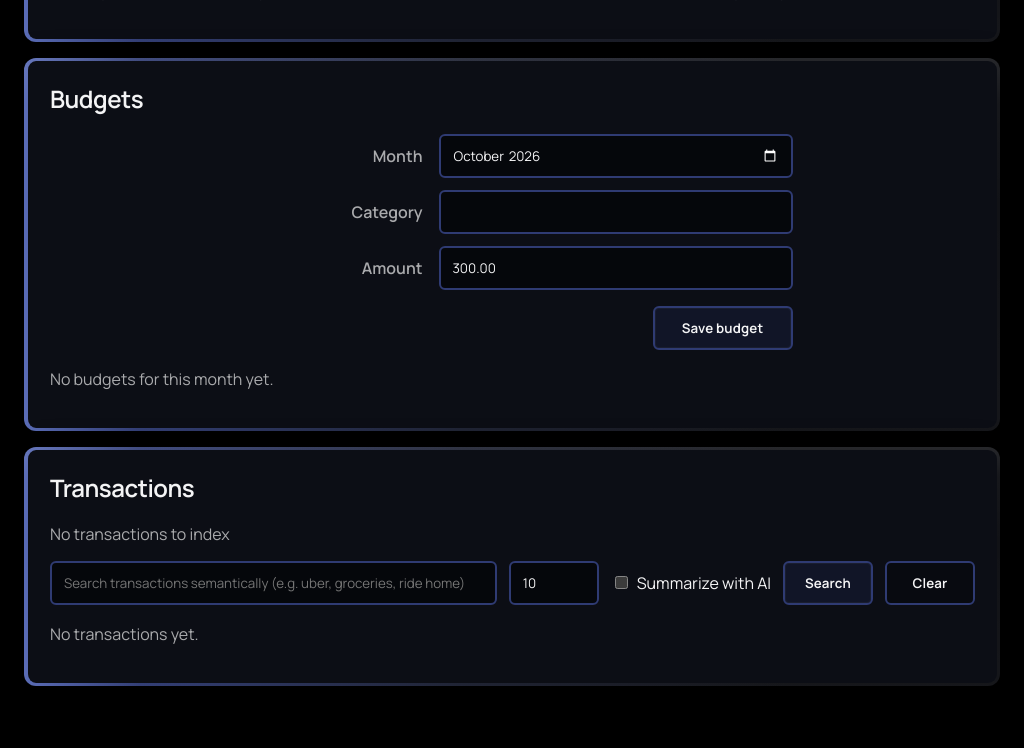
Test case: dashboard request lifecycle › ignores a previous account's pending search after another login
The width and height of the screenshot is (1024, 748).
(page scrolled)
Type "private query" into the field named "Semantic search query" at (273, 583), box [50,561,497,605]
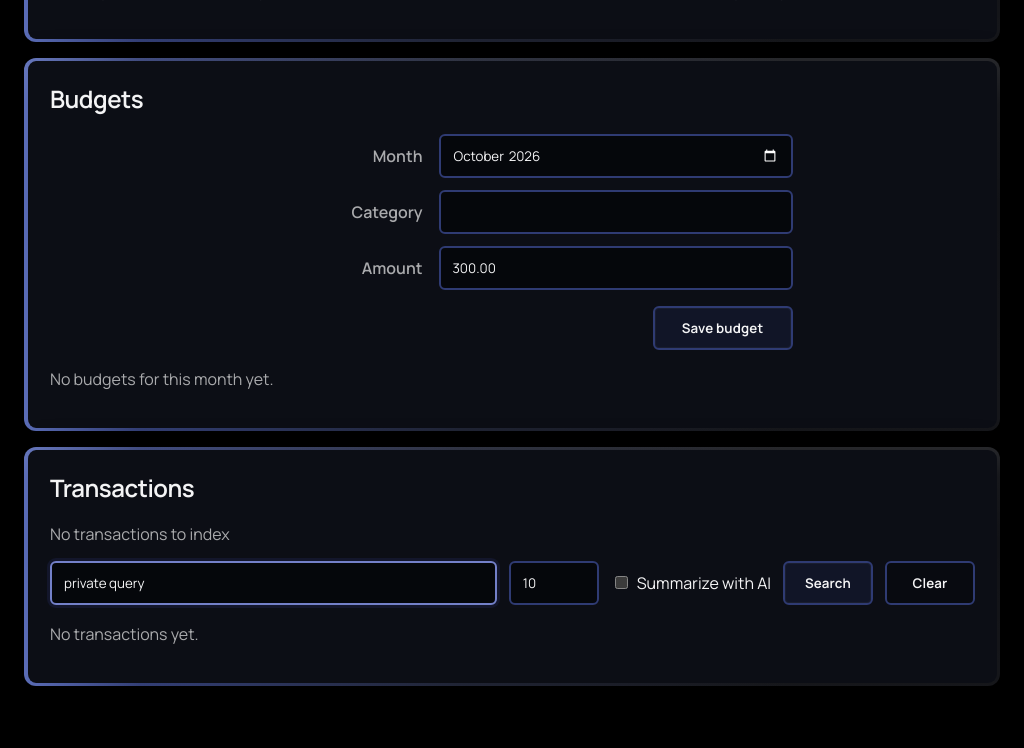
Click the button "Search" at (828, 583), box [783,561,873,605]
(page scrolled)
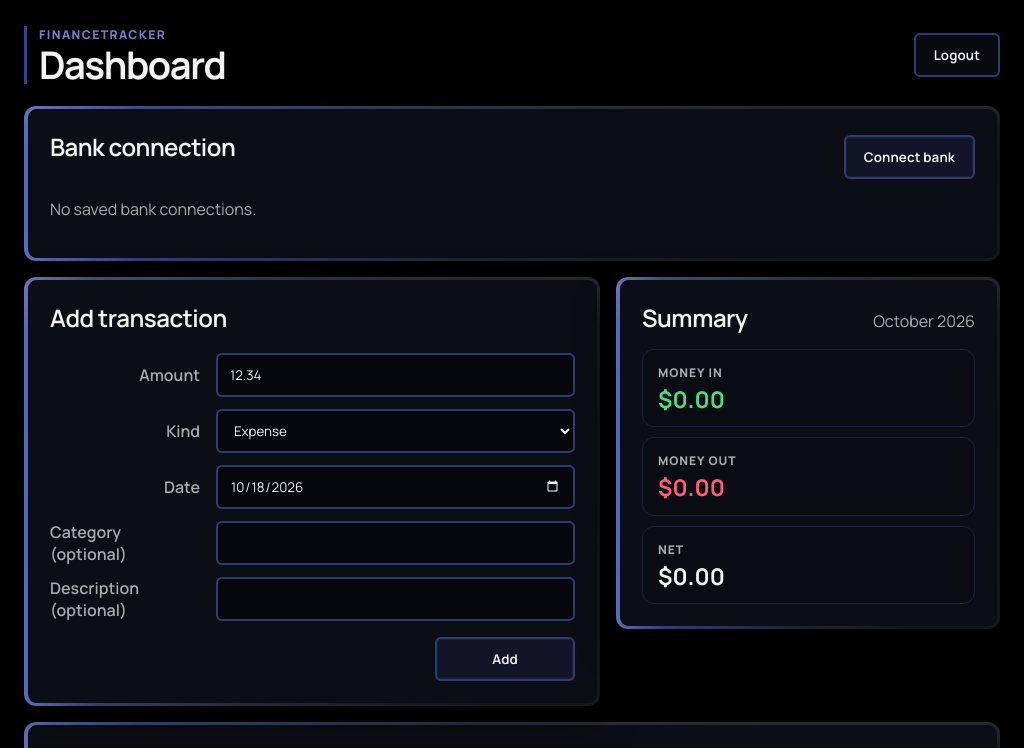
Click the button "Logout" at (957, 55), box [914,33,1000,77]
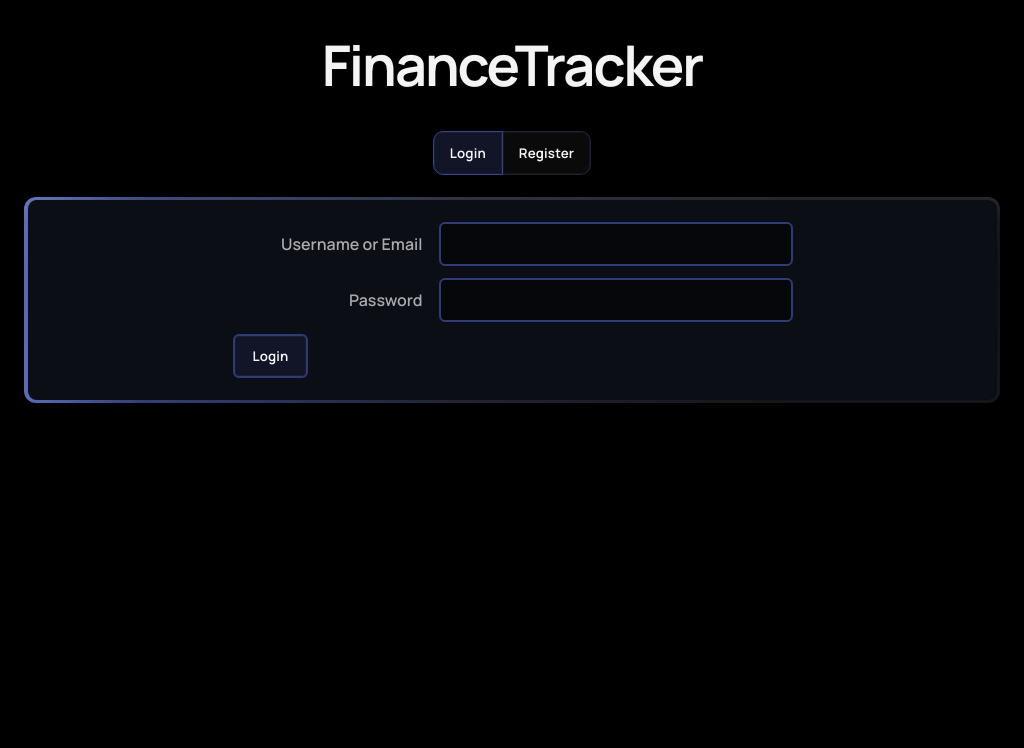
Type "next-user" into the field labelled "Username or Email" at (616, 244), box [438,222,792,266]
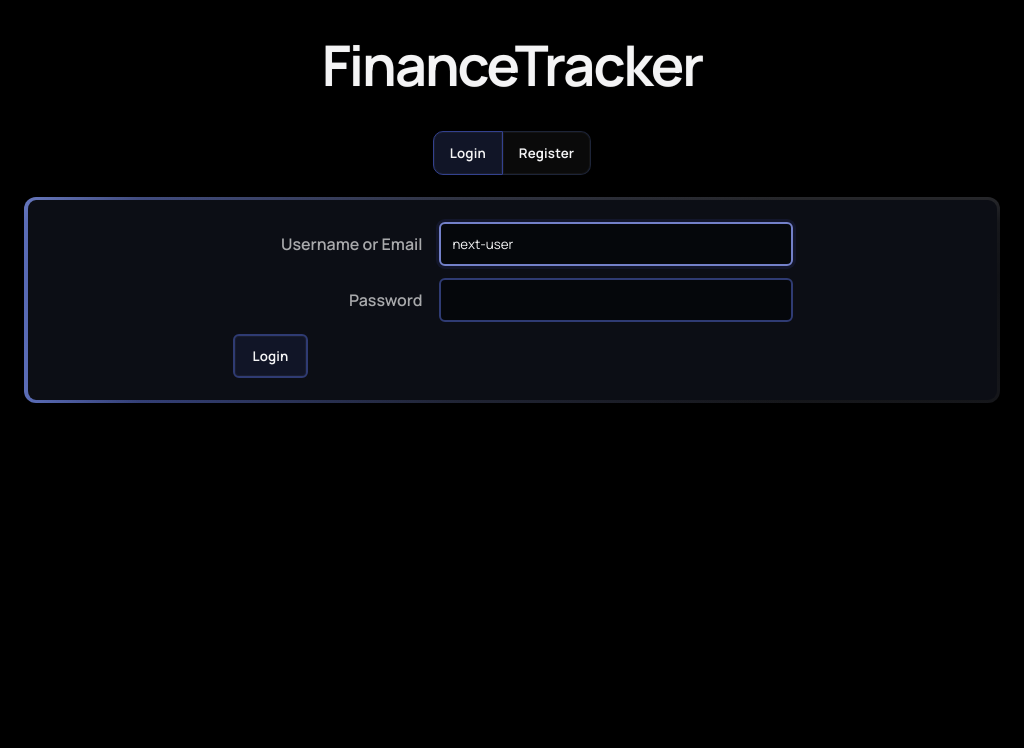
Type "password" into the password field labelled "Password" at (616, 300), box [438,278,792,322]
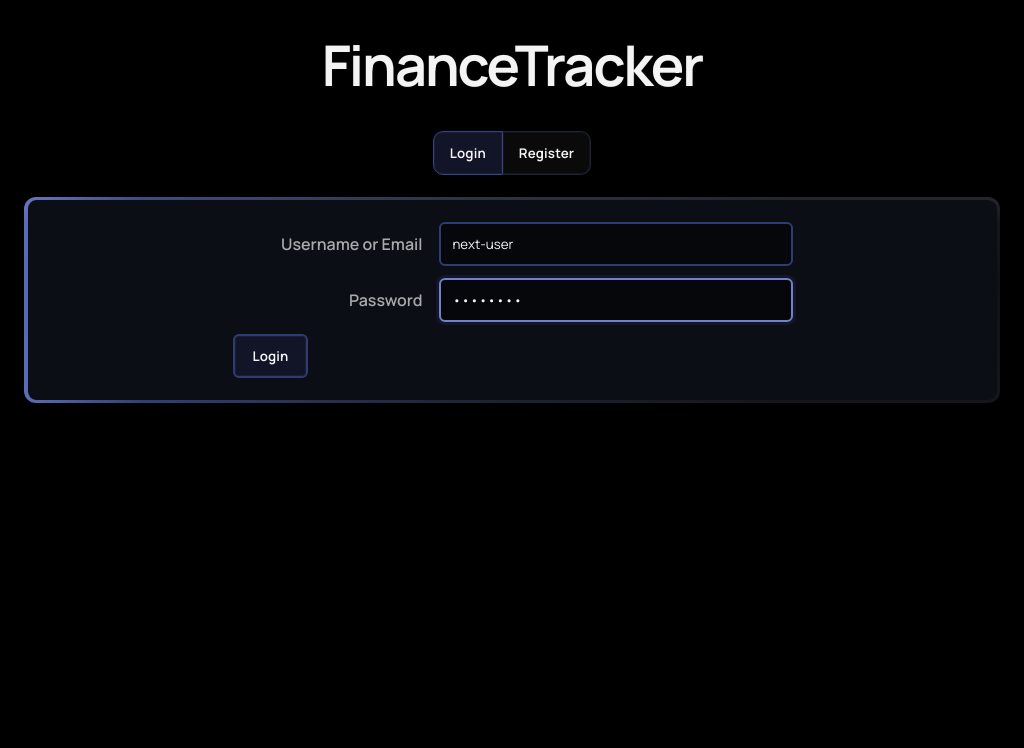
Click the button "Login" below "Password" at (270, 356), box [232,334,308,378]
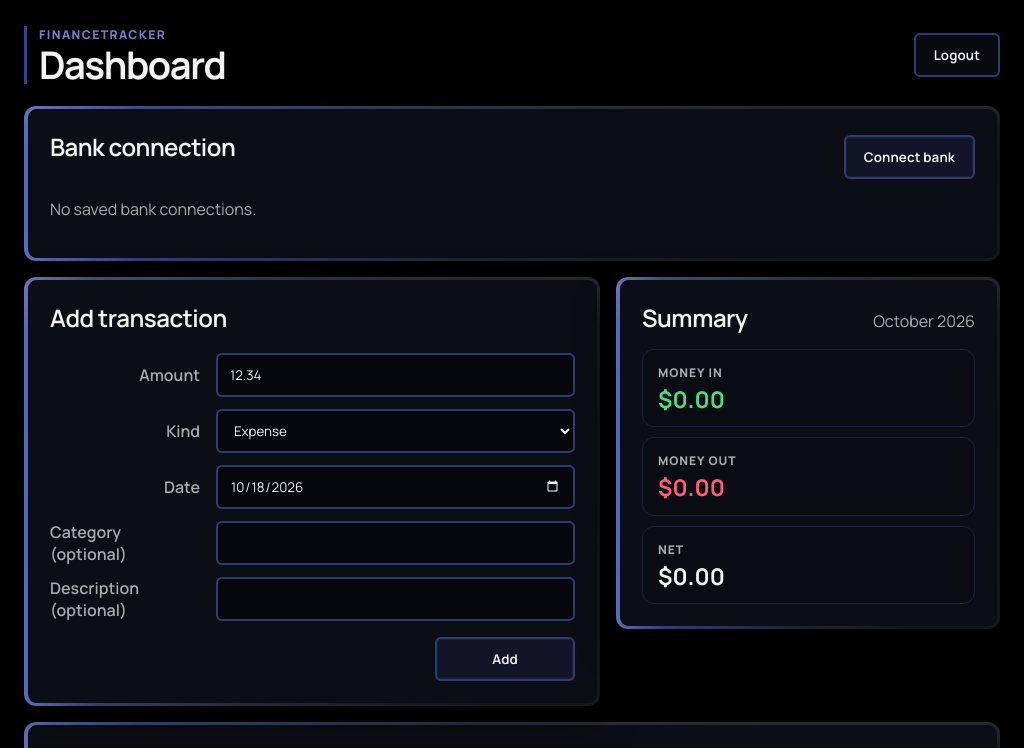
Check: the heading "Dashboard" is shown, box [39,46,226,84]
